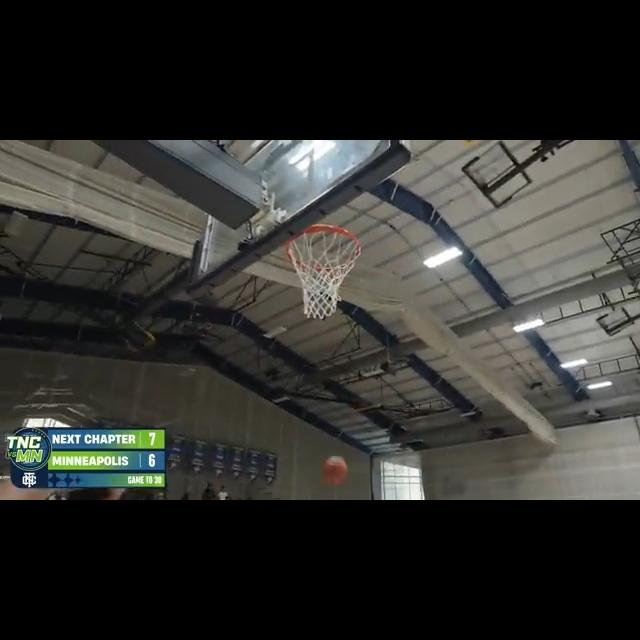basketball: (322, 456, 349, 485)
hoop: (286, 222, 361, 320)
